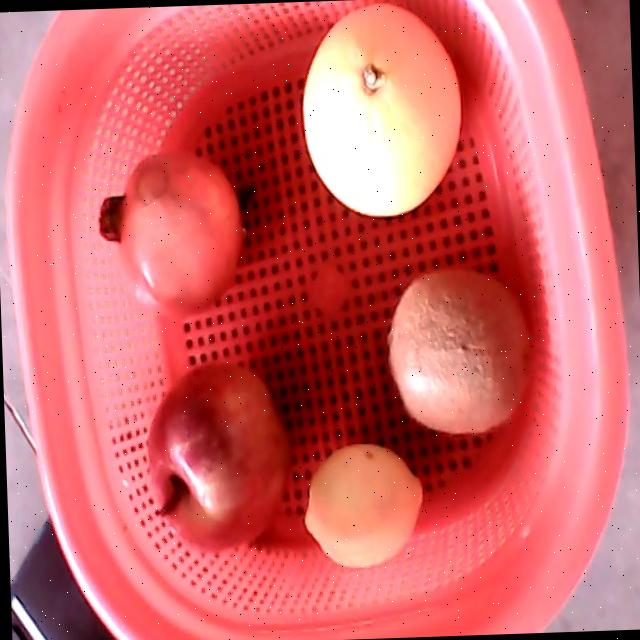apple: (145, 360, 290, 551)
kiwi: (387, 265, 533, 434)
lemon: (302, 441, 423, 567)
orange: (302, 0, 461, 215)
pomegranate: (96, 146, 242, 319)
